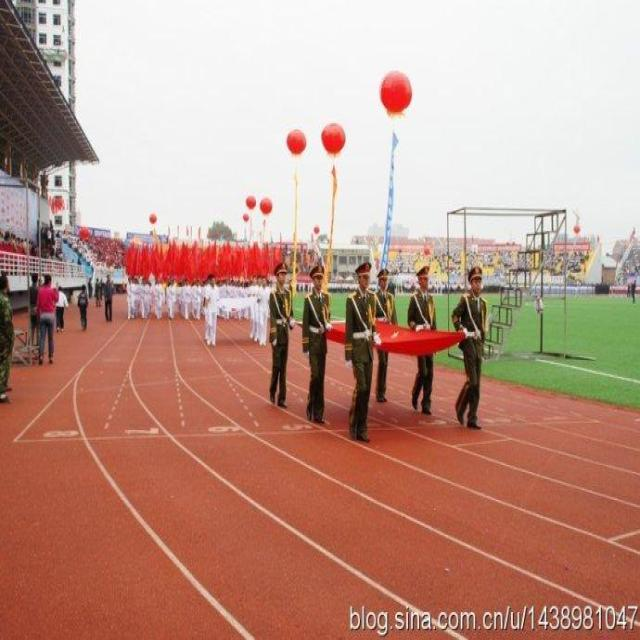non-fight: (341, 258, 388, 442), (450, 263, 491, 430), (404, 260, 440, 416), (299, 263, 332, 427), (265, 264, 294, 411), (0, 271, 19, 404)
